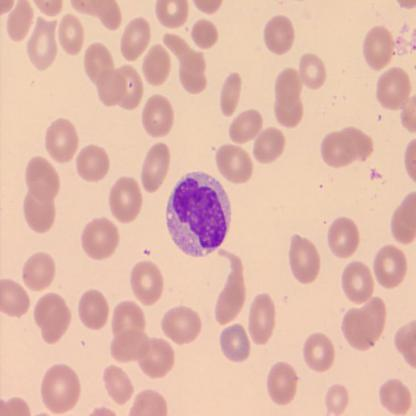Metamyelocyte: (162, 166, 234, 259)
